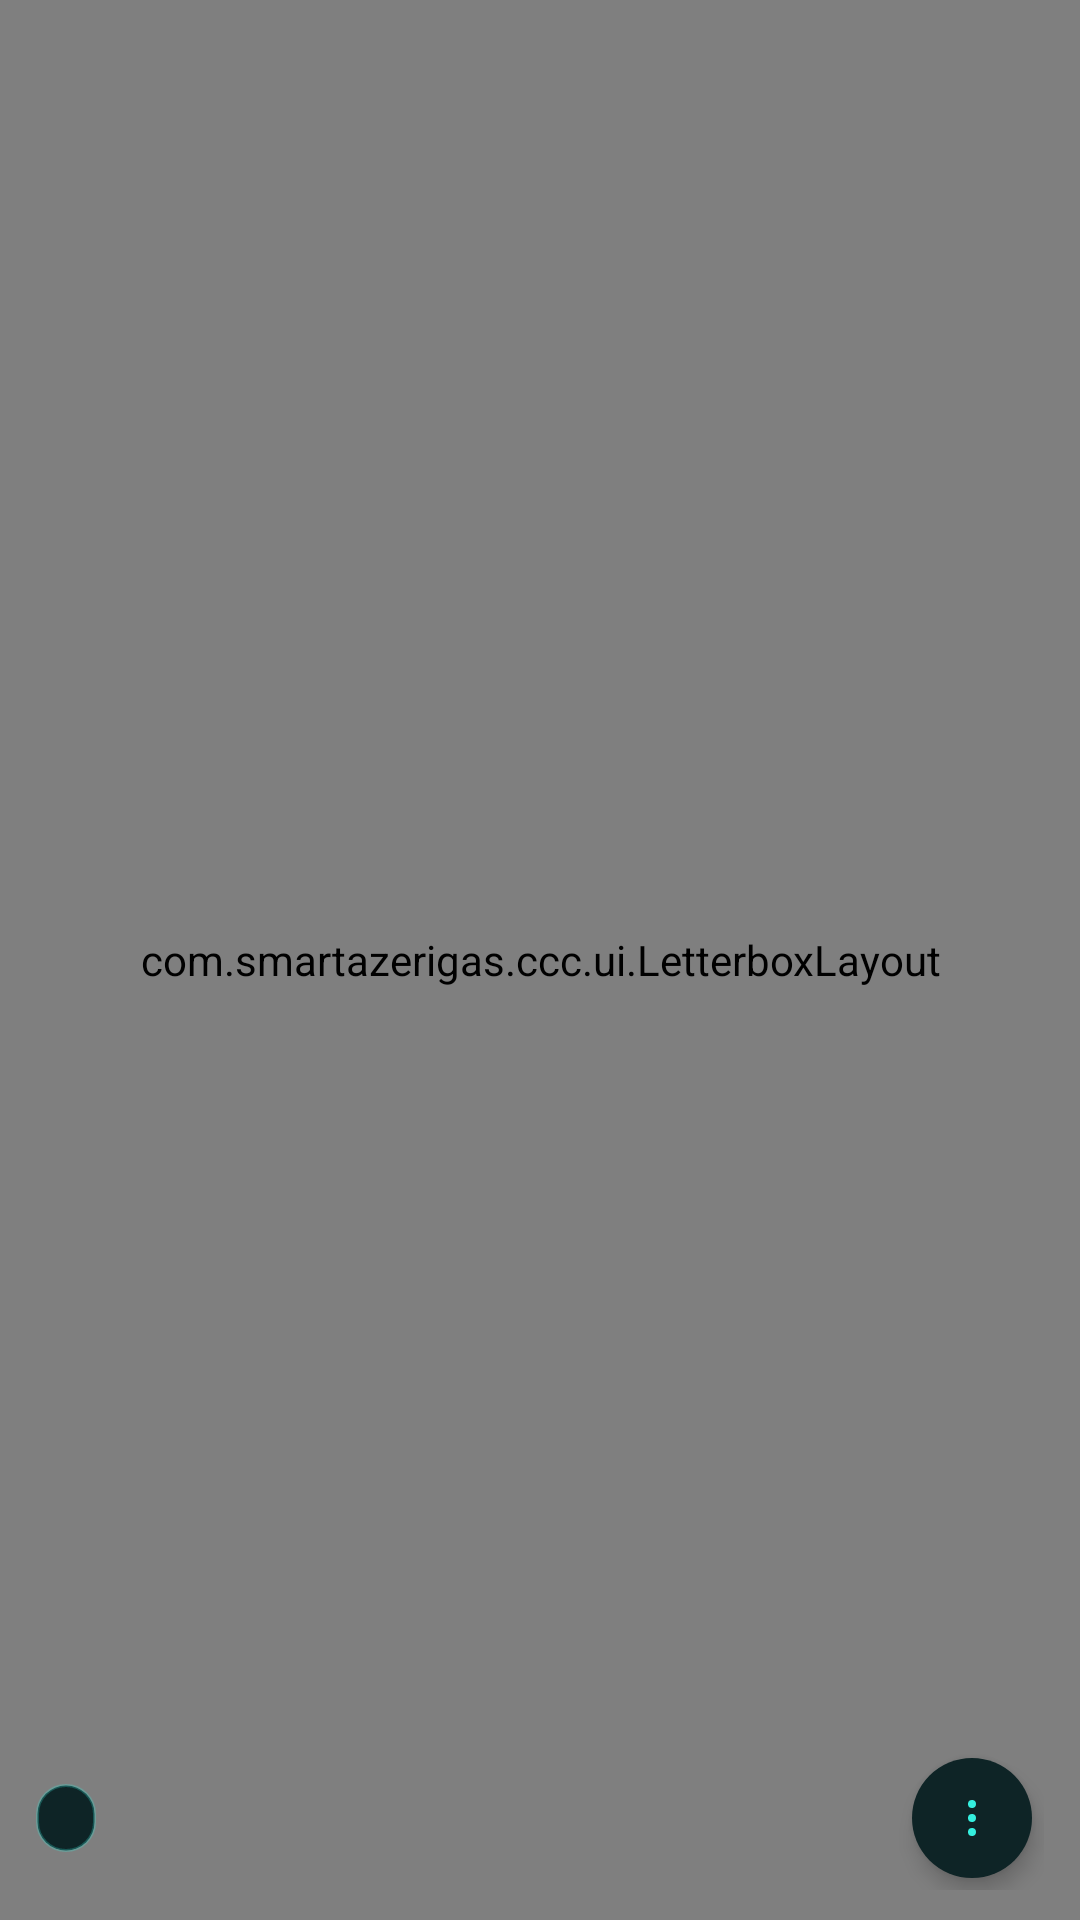

Named icons in this screenshot (1080 × 1920) and their centers, point (x, y):
Open controls: point (972, 1818)
